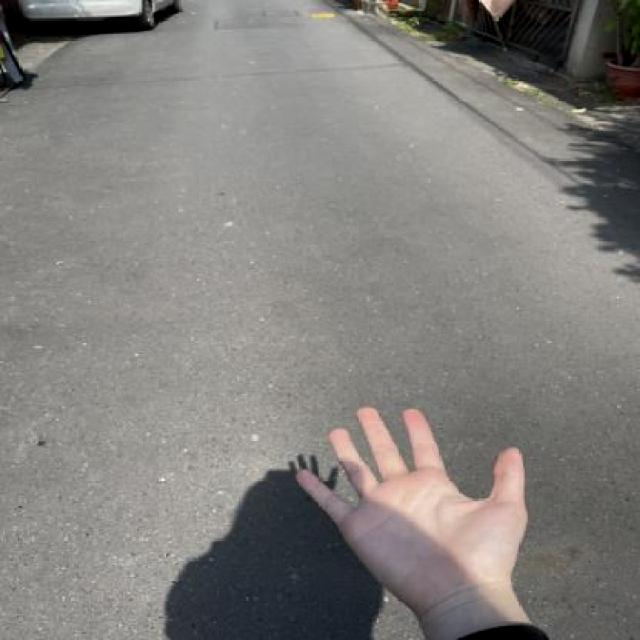no_glove: (282, 394, 546, 620)
